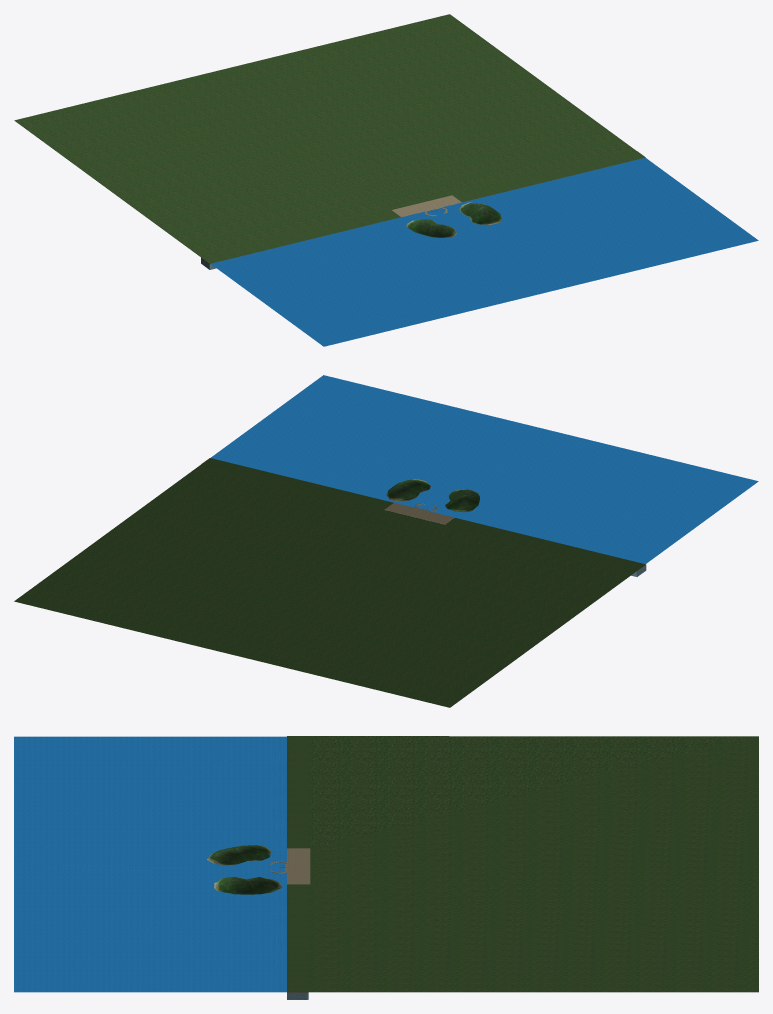
The model's file is ENVO_harbour.obj.
The picture shows the model from 3 angles, top to bottom: view 1: azimuth 30°, elevation 25°; view 2: azimuth 150°, elevation 25°; view 3: azimuth 270°, elevation 25°; orthographic projection. The views are drawn at different scales.
Parts seen in each view (by area): view 1: Harbour, HarbourWater; view 2: Harbour, HarbourWater; view 3: Harbour, HarbourWater.
Part boxes in pixels (x1,y1,x2,y2): Harbour: [14, 14, 645, 269]; HarbourWater: [211, 158, 758, 346]; Harbour: [14, 458, 646, 707]; HarbourWater: [211, 375, 758, 563]; Harbour: [207, 736, 758, 999]; HarbourWater: [14, 736, 286, 992].
Size of what is drawn, in the model's own units: 41993 by 1060 by 51574.
Materials: 11 (9 with a texture image).
